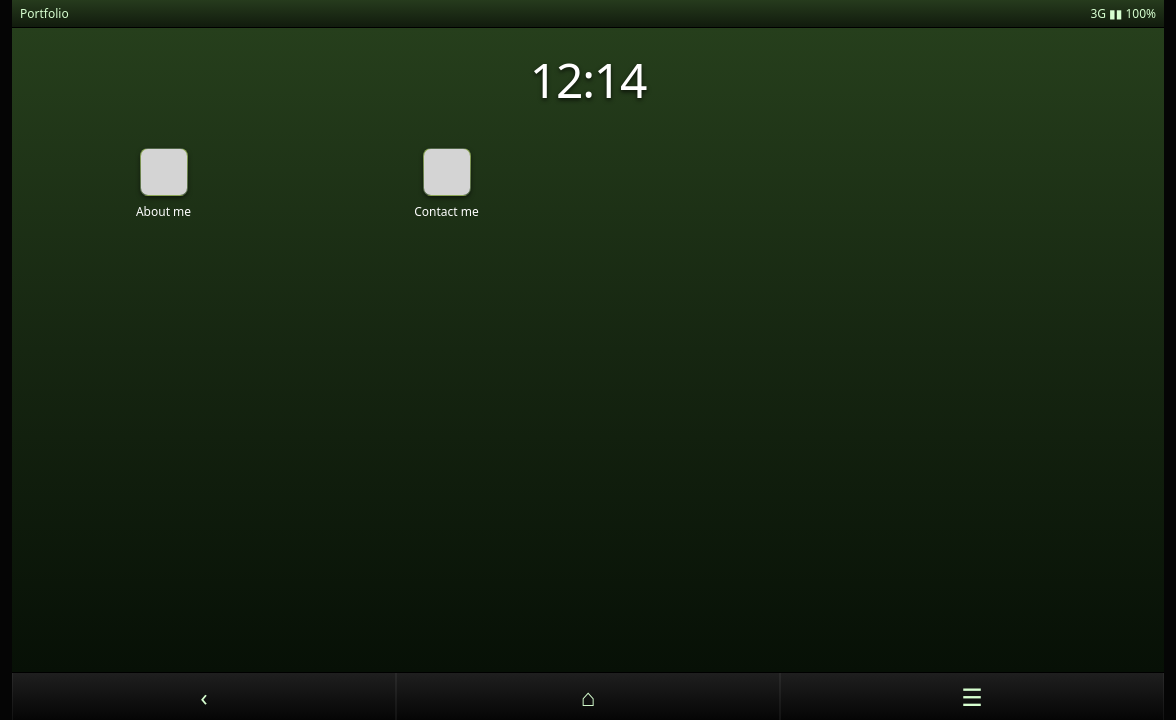
Test: Contact me › opens the contact form on mobile
Press the mouse on the button with aria-label "Open Contact me" at [446, 184], box [311,144,582,223]
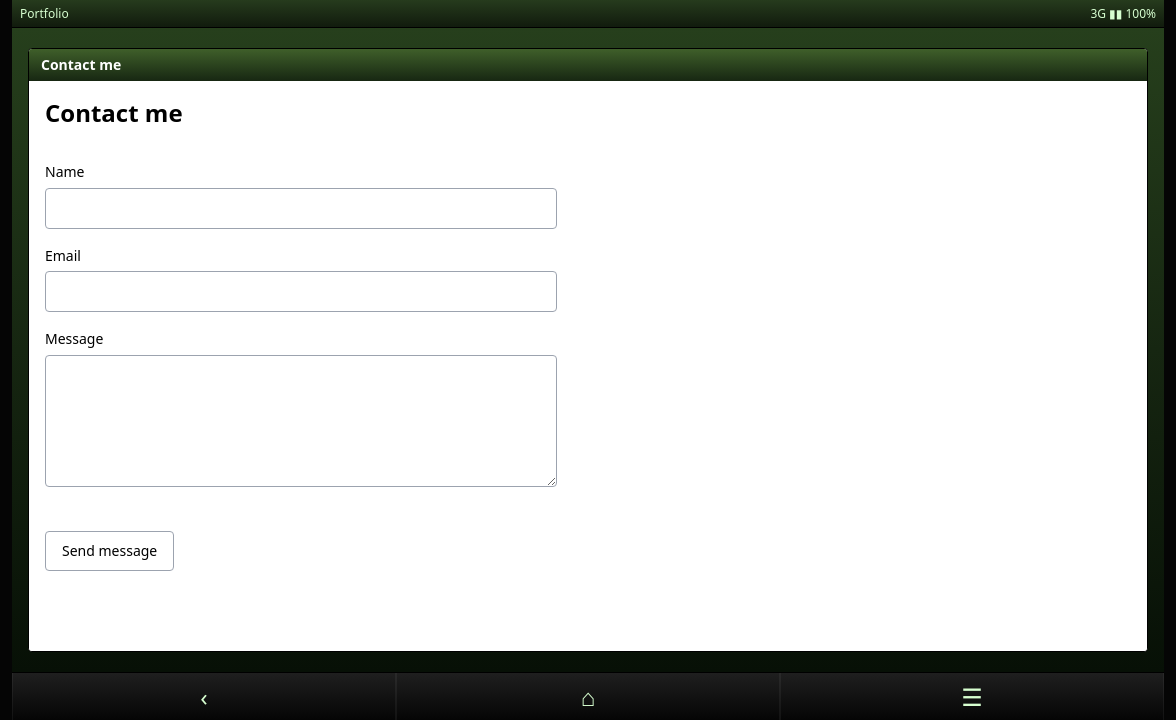
expect the form "Contact me" is shown: met, box [45,97,557,571]
